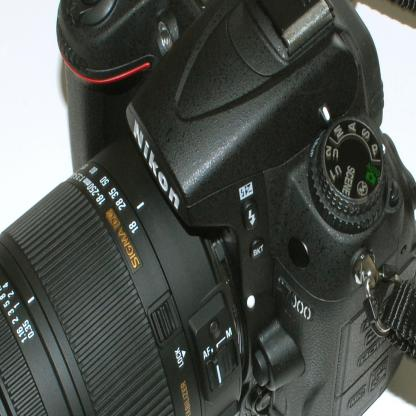Camera: (2, 1, 416, 416)
